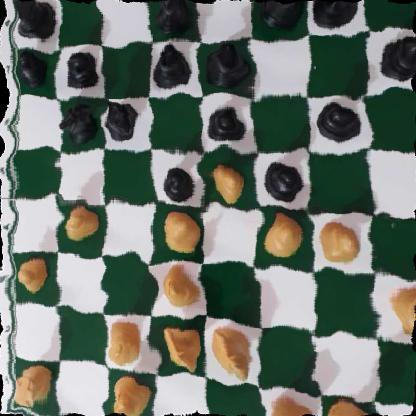black-bishop: (154, 43, 195, 92), (206, 43, 247, 90)
black-king: (311, 0, 365, 30)
black-knight: (55, 103, 99, 141), (100, 98, 138, 139)
black-pawn: (379, 33, 416, 86), (206, 103, 248, 147), (315, 102, 363, 140), (158, 158, 194, 204), (265, 158, 303, 200), (64, 48, 97, 91), (19, 49, 50, 88)
black-queen: (153, 0, 195, 39)
black-rook: (9, 0, 56, 42), (256, 0, 309, 32)
white-bishop: (159, 264, 204, 309), (112, 372, 151, 416)
white-king: (324, 397, 386, 416)
white-knight: (209, 321, 257, 382), (162, 319, 203, 378)
white-pawn: (317, 217, 363, 266), (258, 212, 303, 257), (162, 208, 200, 254), (384, 282, 416, 334), (14, 255, 53, 295), (208, 162, 246, 202), (60, 203, 94, 243)
white-queen: (105, 315, 147, 370)
white-rook: (10, 357, 56, 415), (266, 398, 318, 416)
